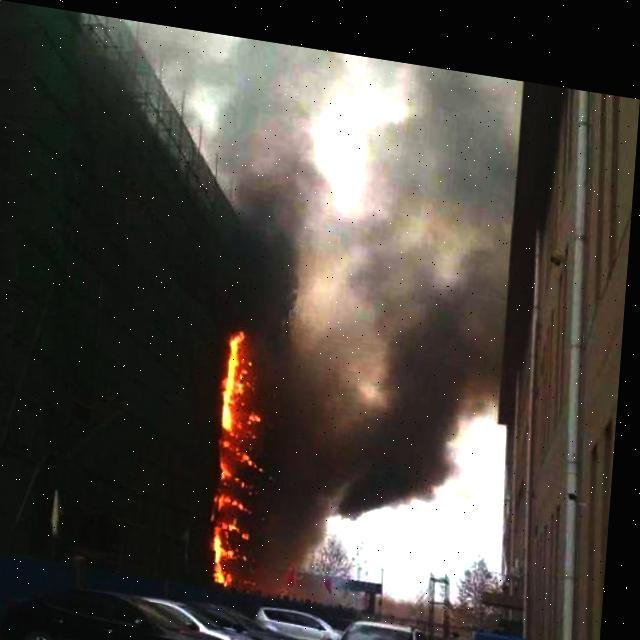Fire: (218, 314, 278, 582)
